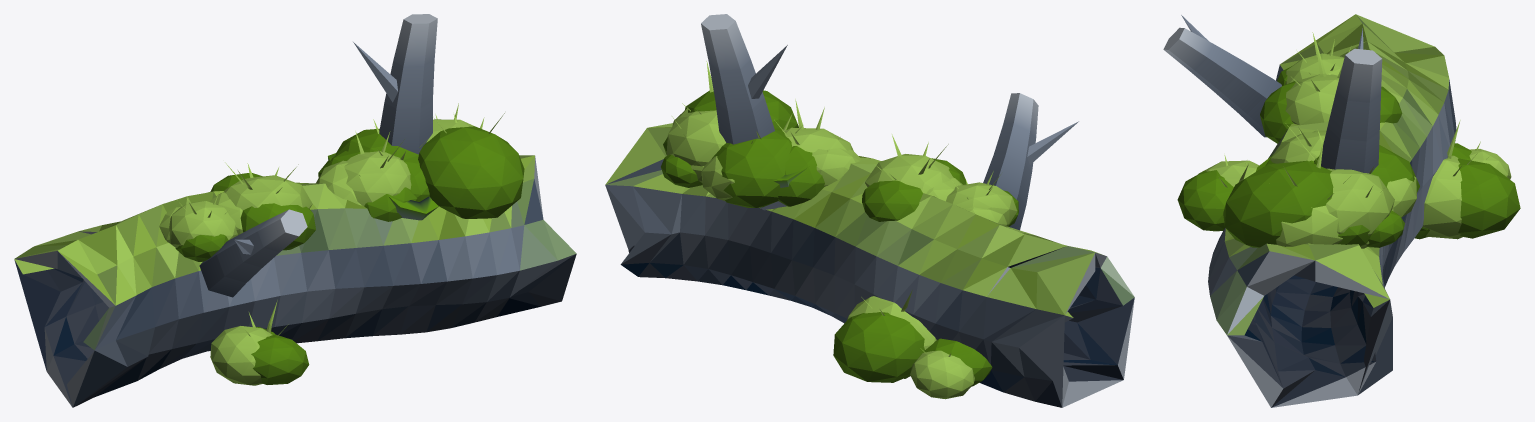
File: pohon_tumbang_hollow_driftwood_654299 (1).glb
3 views of the same model, side by side, from view 1: azimuth 30°, elevation 25°; view 2: azimuth 150°, elevation 25°; view 3: azimuth 270°, elevation 25° (orthographic). The views are drawn at different scales.
Parts seen in each view (by area): view 1: Batang_Pohon_Berlubang; view 2: Batang_Pohon_Berlubang; view 3: Batang_Pohon_Berlubang.
Part boxes in pixels (bbox=[...]): Batang_Pohon_Berlubang: bbox=[14, 14, 576, 407]; Batang_Pohon_Berlubang: bbox=[605, 14, 1134, 407]; Batang_Pohon_Berlubang: bbox=[1163, 14, 1520, 407].
Size of the model in its own units: 5.54 by 3.19 by 3.35.
